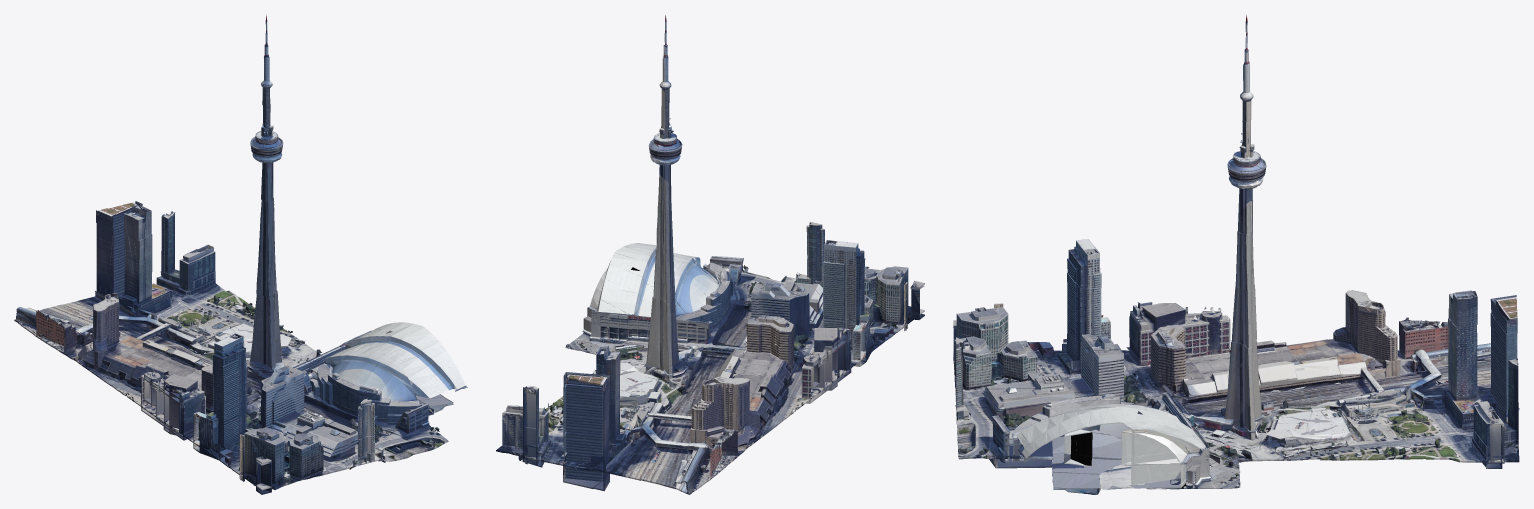
Rendered from Toronto.glb.
The picture shows the model from 3 angles, left to right: view 1: azimuth 30°, elevation 25°; view 2: azimuth 150°, elevation 25°; view 3: azimuth 270°, elevation 25°; orthographic projection. The views are drawn at different scales.
Parts seen in each view (by area): view 1: BuildingMesh-00084.001_46, BuildingMesh-00060.001_34, BuildingMesh-00096.001_52, BuildingMesh-00087.001_48, BuildingMesh-00094.001_50, BuildingMesh-00075.001_39, BuildingMesh-00066.001_36, BuildingMesh-00109.001_57, BuildingMesh-00098.001_54, BuildingMesh-00057.001_31, BuildingMesh-00067.001_37, BuildingMesh-00079.001_42 (+19 smaller); view 2: BuildingMesh-00060.001_34, BuildingMesh-00094.001_50, BuildingMesh-00098.001_54, BuildingMesh-00087.001_48, BuildingMesh-00084.001_46, BuildingMesh-00057.001_31, BuildingMesh-00075.001_39, BuildingMesh-00096.001_52, BuildingMesh-00054.001_28, BuildingMesh-00109.001_57, BuildingMesh-00066.001_36, BuildingMesh-00061.001_35 (+20 smaller); view 3: BuildingMesh-00060.001_34, BuildingMesh-00098.001_54, BuildingMesh-00094.001_50, BuildingMesh-00084.001_46, BuildingMesh-00096.001_52, BuildingMesh-00057.001_31, BuildingMesh-00079.001_42, BuildingMesh-00066.001_36, BuildingMesh-00109.001_57, BuildingMesh-00061.001_35, BuildingMesh-00087.001_48, BuildingMesh-00054.001_28 (+23 smaller).
Part boxes in pixels (bbox=[...]): BuildingMesh-00084.001_46: bbox=[179, 366, 312, 460]; BuildingMesh-00060.001_34: bbox=[118, 211, 241, 320]; BuildingMesh-00096.001_52: bbox=[220, 415, 355, 491]; BuildingMesh-00087.001_48: bbox=[14, 223, 145, 348]; BuildingMesh-00094.001_50: bbox=[55, 292, 189, 373]; BuildingMesh-00075.001_39: bbox=[290, 345, 407, 427]; BuildingMesh-00066.001_36: bbox=[315, 390, 448, 468]; BuildingMesh-00109.001_57: bbox=[96, 342, 211, 404]; BuildingMesh-00098.001_54: bbox=[138, 363, 261, 436]; BuildingMesh-00057.001_31: bbox=[191, 290, 320, 376]; BuildingMesh-00067.001_37: bbox=[315, 376, 442, 464]; BuildingMesh-00079.001_42: bbox=[150, 299, 283, 351]; BuildingMesh-00060.001_34: bbox=[502, 374, 631, 488]; BuildingMesh-00094.001_50: bbox=[630, 376, 762, 463]; BuildingMesh-00098.001_54: bbox=[711, 315, 846, 403]; BuildingMesh-00087.001_48: bbox=[592, 376, 728, 494]; BuildingMesh-00084.001_46: bbox=[758, 271, 885, 375]; BuildingMesh-00057.001_31: bbox=[592, 296, 708, 409]; BuildingMesh-00075.001_39: bbox=[652, 258, 765, 347]; BuildingMesh-00096.001_52: bbox=[804, 266, 924, 340]; BuildingMesh-00054.001_28: bbox=[620, 286, 745, 379]; BuildingMesh-00109.001_57: bbox=[671, 364, 807, 432]; BuildingMesh-00066.001_36: bbox=[700, 222, 824, 311]; BuildingMesh-00061.001_35: bbox=[496, 386, 630, 481]; BuildingMesh-00060.001_34: bbox=[1422, 317, 1519, 468]; BuildingMesh-00098.001_54: bbox=[1140, 302, 1230, 406]; BuildingMesh-00094.001_50: bbox=[1327, 290, 1422, 407]; BuildingMesh-00084.001_46: bbox=[1047, 272, 1143, 400]; BuildingMesh-00096.001_52: bbox=[953, 303, 1049, 407]; BuildingMesh-00057.001_31: bbox=[1237, 339, 1333, 462]; BuildingMesh-00079.001_42: bbox=[1329, 387, 1425, 460]; BuildingMesh-00066.001_36: bbox=[955, 342, 1052, 468]; BuildingMesh-00109.001_57: bbox=[1257, 339, 1329, 405]; BuildingMesh-00061.001_35: bbox=[1424, 351, 1519, 466]; BuildingMesh-00087.001_48: bbox=[1420, 313, 1493, 408]; BuildingMesh-00054.001_28: bbox=[1145, 341, 1238, 459].
Bounding box in the file's own units: 14.04 × 20.63 × 24.25.
59 materials, 59 textured.
